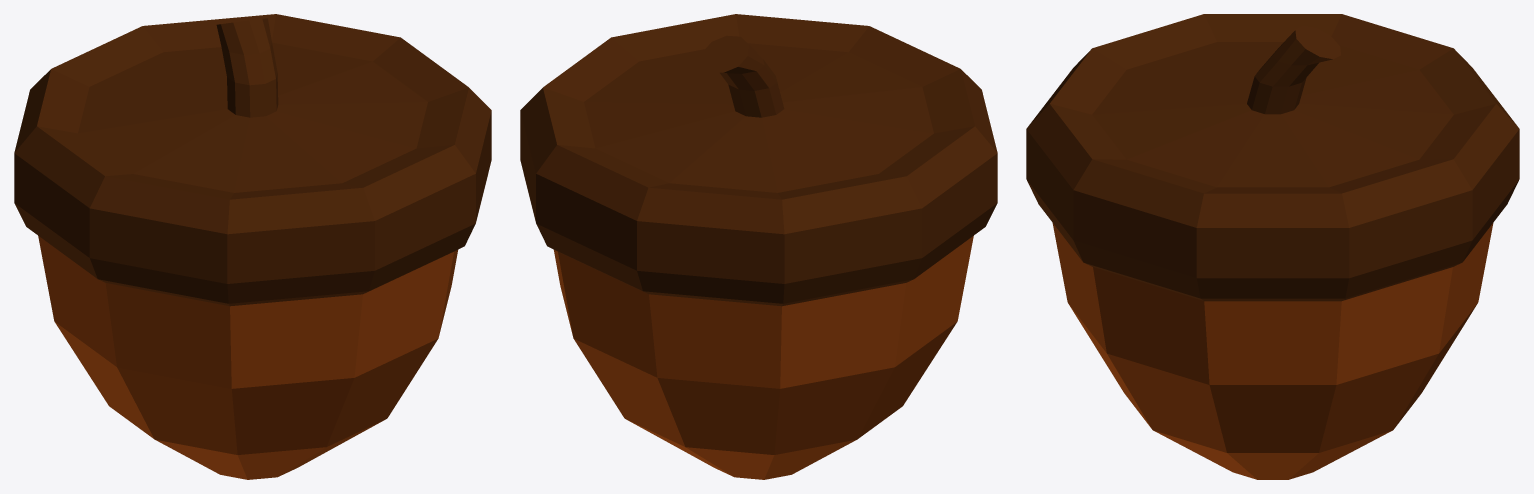
File: nut.glb
The picture shows the model from 3 angles, left to right: view 1: azimuth 30°, elevation 25°; view 2: azimuth 150°, elevation 25°; view 3: azimuth 270°, elevation 25°; orthographic projection.
Parts seen in each view (by area): view 1: Cylinder; view 2: Cylinder; view 3: Cylinder.
Boxes of the visible parts, x1,y1,x2,y2 form: Cylinder: (14, 14, 491, 479); Cylinder: (520, 14, 997, 479); Cylinder: (1026, 14, 1519, 479).
Size of the model in its own units: 0.1054 by 0.1075 by 0.1108.
